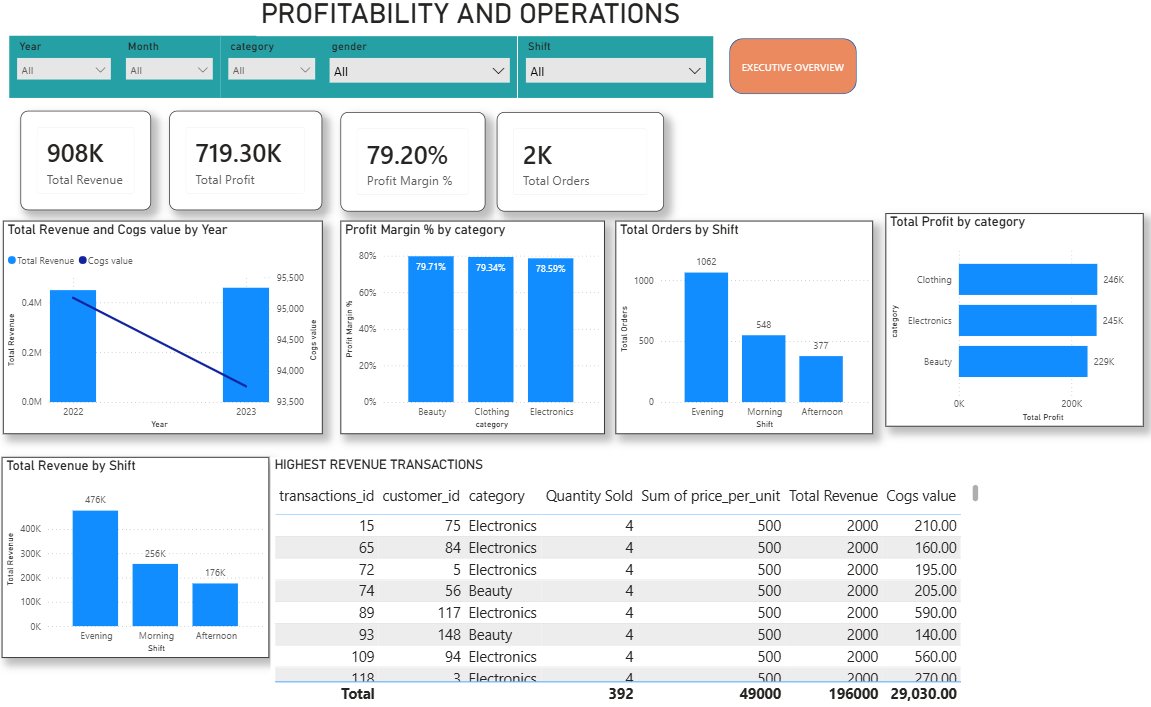

What the dashboard file says about the page in this screenshot:
{"tool":"powerbi","page":{"name":"Profitability and Operations","canvas":[1500,920],"ordinal":4},"visuals":[{"type":"slicer","fields":{"Values":["Calendar.Date.Variation.Date Hierarchy.Year"]},"box":[26.7,56.7,140,80],"z":0},{"type":"slicer","fields":{"Values":["Calendar.Date.Variation.Date Hierarchy.Month"]},"box":[166.7,56.7,131.7,80],"z":1000},{"type":"slicer","fields":{"Values":["RETAILSALES.category"]},"box":[298.3,56.7,131.7,80],"z":2000},{"type":"slicer","fields":{"Values":["RETAILSALES.gender"]},"box":[430,56.7,251.5,80],"z":3000},{"type":"slicer","fields":{"Values":["RETAILSALES.Shift"]},"box":[681.7,56.7,251.5,80],"z":4000},{"type":"cardVisual","fields":{"Data":["RETAILSALES.Total Orders"]},"box":[655,155,215,128.3],"z":5000},{"type":"cardVisual","fields":{"Data":["RETAILSALES.Profit Margin %"]},"box":[453.3,155,186.7,128.3],"z":6000},{"type":"cardVisual","fields":{"Data":["RETAILSALES.Total Revenue"]},"box":[41.7,153.3,168.3,128.3],"z":7000},{"type":"cardVisual","fields":{"Data":["RETAILSALES.Total Profit"]},"box":[233.3,153.3,196.7,128.3],"z":8000},{"type":"lineClusteredColumnComboChart","fields":{"Category":["Calendar.Date.Variation.Date Hierarchy.Year","Calendar.Date.Variation.Date Hierarchy.Month"],"Y":["RETAILSALES.Total Revenue"],"Y2":["RETAILSALES.Cogs value"]},"box":[18.6,294.3,411.4,274.3],"z":9000},{"type":"clusteredBarChart","fields":{"Category":["RETAILSALES.category"],"Y":["RETAILSALES.Total Profit"]},"box":[1154,284,332,274],"z":10000},{"type":"clusteredColumnChart","fields":{"Category":["RETAILSALES.category"],"Y":["RETAILSALES.Profit Margin %"]},"box":[452.9,294.3,340,274.3],"z":11000},{"type":"clusteredColumnChart","fields":{"Category":["RETAILSALES.Shift"],"Y":["RETAILSALES.Total Orders"]},"box":[808,294,331.4,274.3],"z":12000},{"type":"clusteredColumnChart","fields":{"Category":["RETAILSALES.Shift"],"Y":["RETAILSALES.Total Revenue"]},"box":[18,598,344.3,258.6],"z":13000},{"type":"tableEx","title":"HIGHEST REVENUE TRANSACTIONS","fields":{"Values":["RETAILSALES.transactions_id","RETAILSALES.customer_id","RETAILSALES.category","RETAILSALES.Quantity Sold","Sum(RETAILSALES.price_per_unit)","RETAILSALES.Total Revenue","RETAILSALES.Cogs value"]},"box":[364,598,916,322],"z":14000},{"type":"textbox","title":"PROFITABILITY AND OPERATIONS","box":[345.7,6.4,654.5,49.9],"z":15000},{"type":"shape","box":[954,60,164,72],"z":16000}]}

Visuals, with their boxes in screenshot pixels (x1, y1, x2, y2), scaled from the page's 1500x920 canvas onto the 1151x707 screenshot:
slicer - Calendar.Date.Variation.Date Hierarchy.Year: x1=20, y1=44, x2=128, y2=105
slicer - Calendar.Date.Variation.Date Hierarchy.Month: x1=128, y1=44, x2=229, y2=105
slicer - RETAILSALES.category: x1=229, y1=44, x2=330, y2=105
slicer - RETAILSALES.gender: x1=330, y1=44, x2=523, y2=105
slicer - RETAILSALES.Shift: x1=523, y1=44, x2=716, y2=105
cardVisual - RETAILSALES.Total Orders: x1=503, y1=119, x2=668, y2=218
cardVisual - RETAILSALES.Profit Margin %: x1=348, y1=119, x2=491, y2=218
cardVisual - RETAILSALES.Total Revenue: x1=32, y1=118, x2=161, y2=216
cardVisual - RETAILSALES.Total Profit: x1=179, y1=118, x2=330, y2=216
lineClusteredColumnComboChart - Calendar.Date.Variation.Date Hierarchy.Year x Calendar.Date.Variation.Date Hierarchy.Month: x1=14, y1=226, x2=330, y2=437
clusteredBarChart - RETAILSALES.category x RETAILSALES.Total Profit: x1=886, y1=218, x2=1140, y2=429
clusteredColumnChart - RETAILSALES.category x RETAILSALES.Profit Margin %: x1=348, y1=226, x2=608, y2=437
clusteredColumnChart - RETAILSALES.Shift x RETAILSALES.Total Orders: x1=620, y1=226, x2=874, y2=437
clusteredColumnChart - RETAILSALES.Shift x RETAILSALES.Total Revenue: x1=14, y1=460, x2=278, y2=658
"HIGHEST REVENUE TRANSACTIONS" tableEx: x1=279, y1=460, x2=982, y2=706
"PROFITABILITY AND OPERATIONS" textbox: x1=265, y1=5, x2=767, y2=43
shape: x1=732, y1=46, x2=858, y2=101
